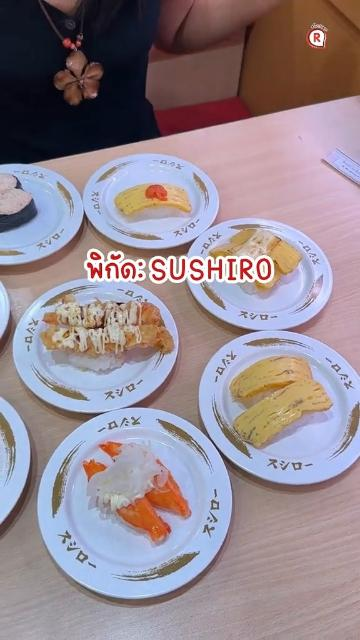janwhite: (36, 420, 234, 596), (221, 319, 360, 499), (26, 282, 183, 418), (93, 150, 217, 248), (20, 169, 84, 242), (0, 386, 32, 527), (301, 223, 338, 320), (0, 228, 77, 259), (0, 268, 15, 357)
